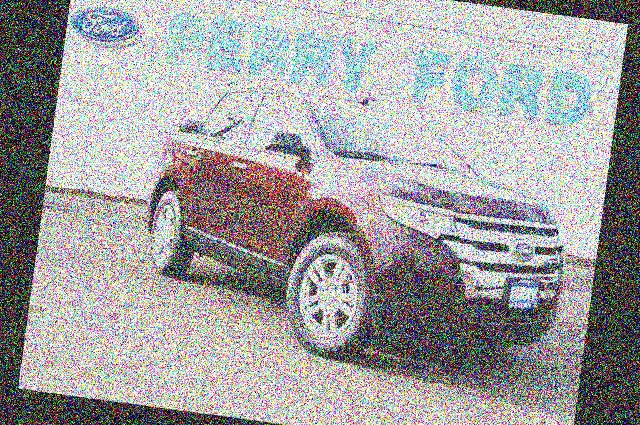car: (114, 44, 598, 392)
